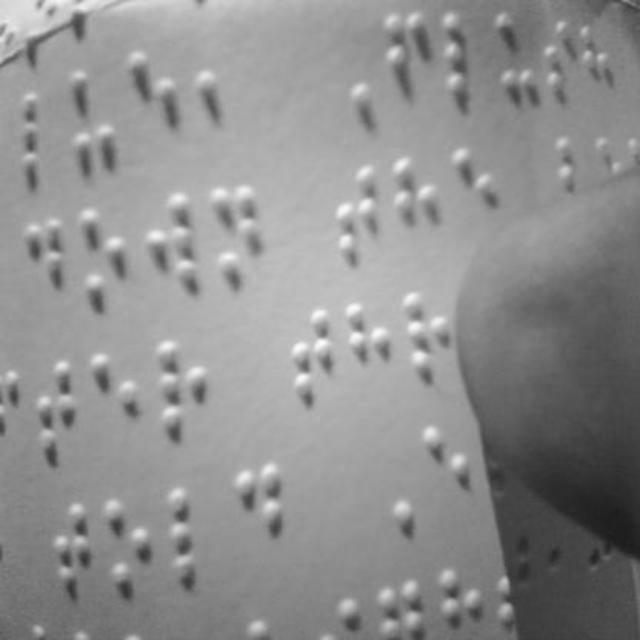braiile: (128, 35, 188, 162), (194, 19, 250, 149), (229, 453, 289, 571), (69, 61, 133, 171), (153, 184, 213, 300), (152, 329, 212, 445), (162, 476, 222, 592), (389, 144, 445, 264), (36, 349, 88, 475), (450, 139, 504, 259), (398, 278, 458, 386), (217, 171, 269, 295), (104, 488, 158, 606), (17, 80, 78, 184), (418, 418, 474, 530), (92, 346, 144, 464), (342, 283, 394, 401), (45, 496, 97, 610), (333, 155, 383, 271), (84, 200, 134, 312), (379, 9, 431, 112), (288, 300, 336, 410), (27, 210, 74, 312), (439, 6, 485, 110), (492, 5, 540, 101), (542, 13, 576, 97)
